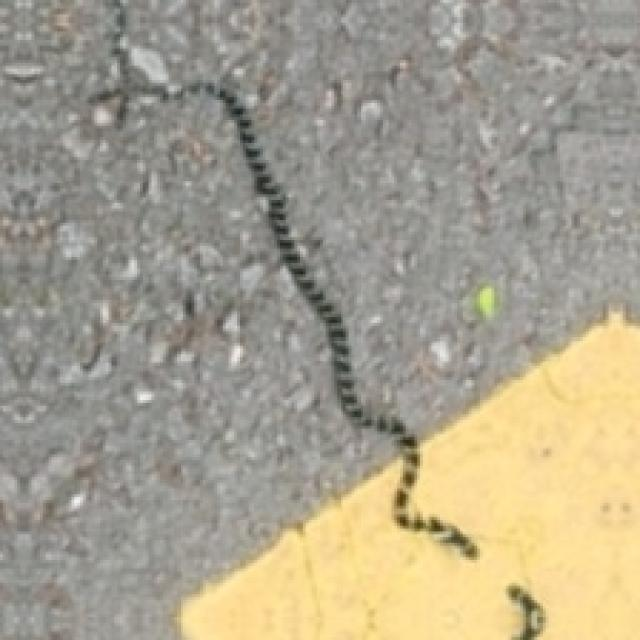king cobra: (171, 83, 477, 557)
